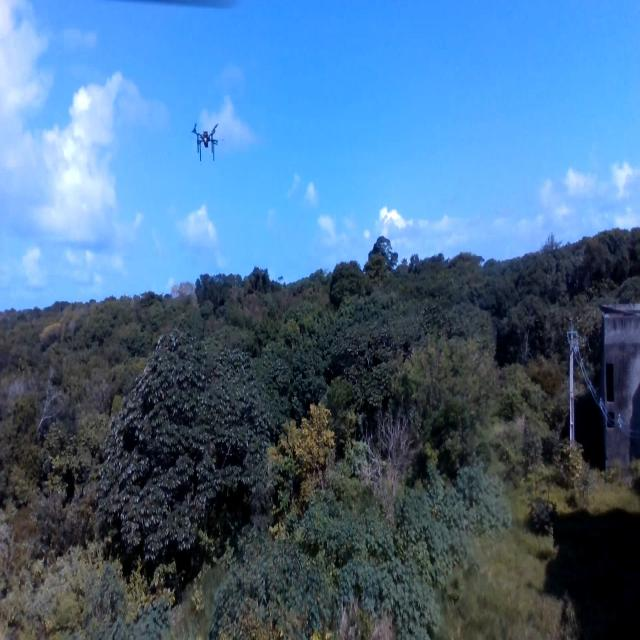-uav-: (187, 110, 225, 162)
